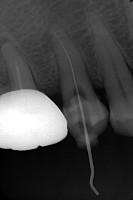Furcation Involvement: (41, 31, 54, 51), (0, 34, 9, 49)
